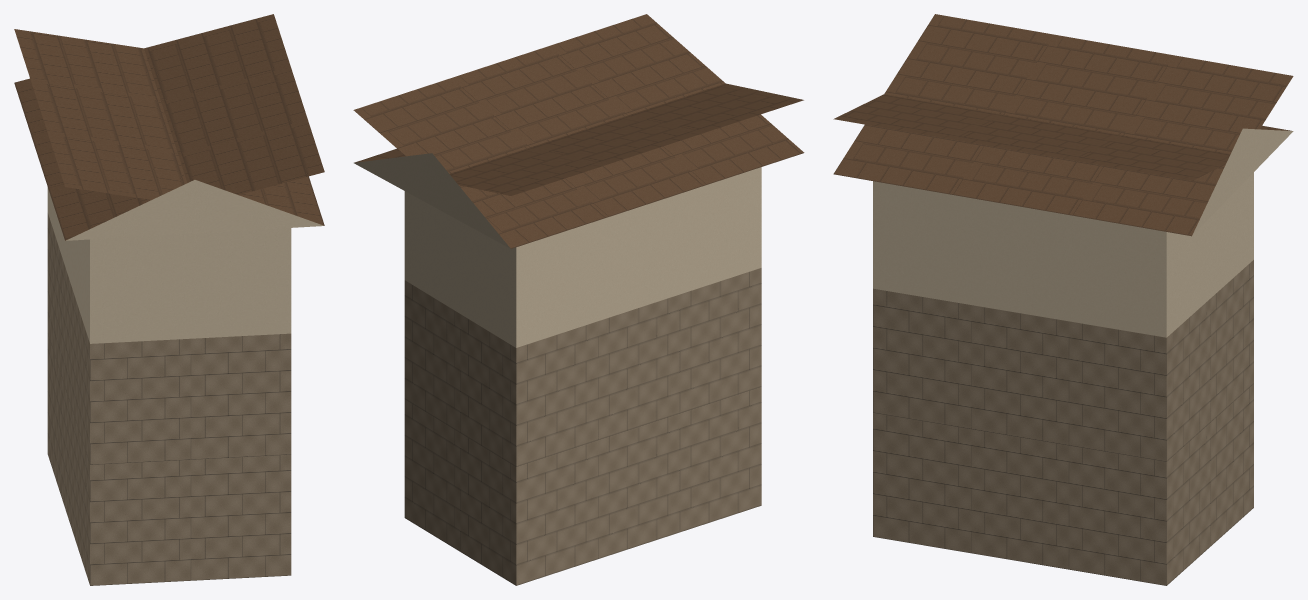
Rendered from bld_c-27_31_780.gltf.
3 views of the same model, side by side, from view 1: azimuth 30°, elevation 25°; view 2: azimuth 150°, elevation 25°; view 3: azimuth 270°, elevation 25° (orthographic). The views are drawn at different scales.
Visible parts, largest first — view 1: bld_c-27_31_780; view 2: bld_c-27_31_780; view 3: bld_c-27_31_780.
Part boxes in pixels (x1,y1,x2,y2): bld_c-27_31_780: (14, 14, 324, 585); bld_c-27_31_780: (353, 14, 804, 585); bld_c-27_31_780: (833, 14, 1293, 585).
Bounding box in the file's own units: 6.5 × 7.7 × 7.56.
4 materials, 4 textured.
